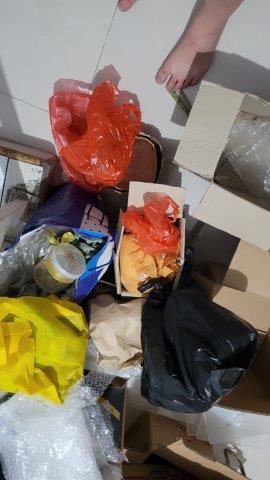kardus: (179, 86, 270, 231)
plastik: (140, 291, 250, 405), (10, 407, 120, 480), (61, 90, 139, 186), (127, 199, 183, 252), (233, 124, 270, 189), (19, 238, 53, 272)
